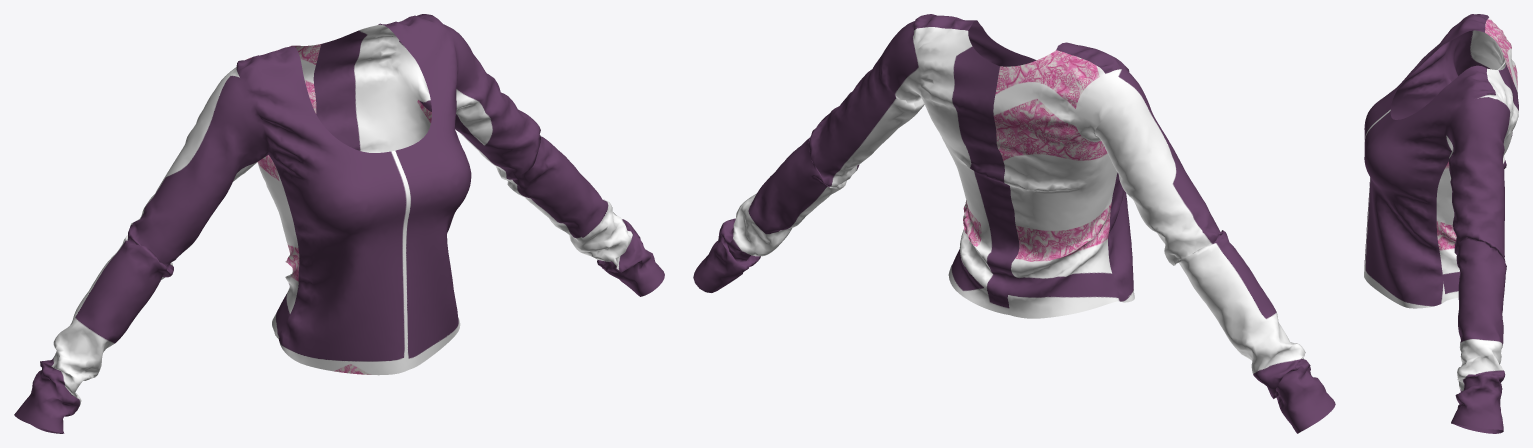
The model's file is 3Angle.fbx.
The picture shows the model from 3 angles, left to right: view 1: azimuth 30°, elevation 25°; view 2: azimuth 150°, elevation 25°; view 3: azimuth 270°, elevation 25°; orthographic projection. The views are drawn at different scales.
Parts seen in each view (by area): view 1: 3Angle; view 2: 3Angle; view 3: 3Angle.
Boxes of the visible parts, x1=… form: 3Angle: x1=14, y1=14, x2=664, y2=433; 3Angle: x1=693, y1=14, x2=1335, y2=433; 3Angle: x1=1364, y1=14, x2=1518, y2=433.
Size of the model in its own units: 1086 by 535 by 281.
